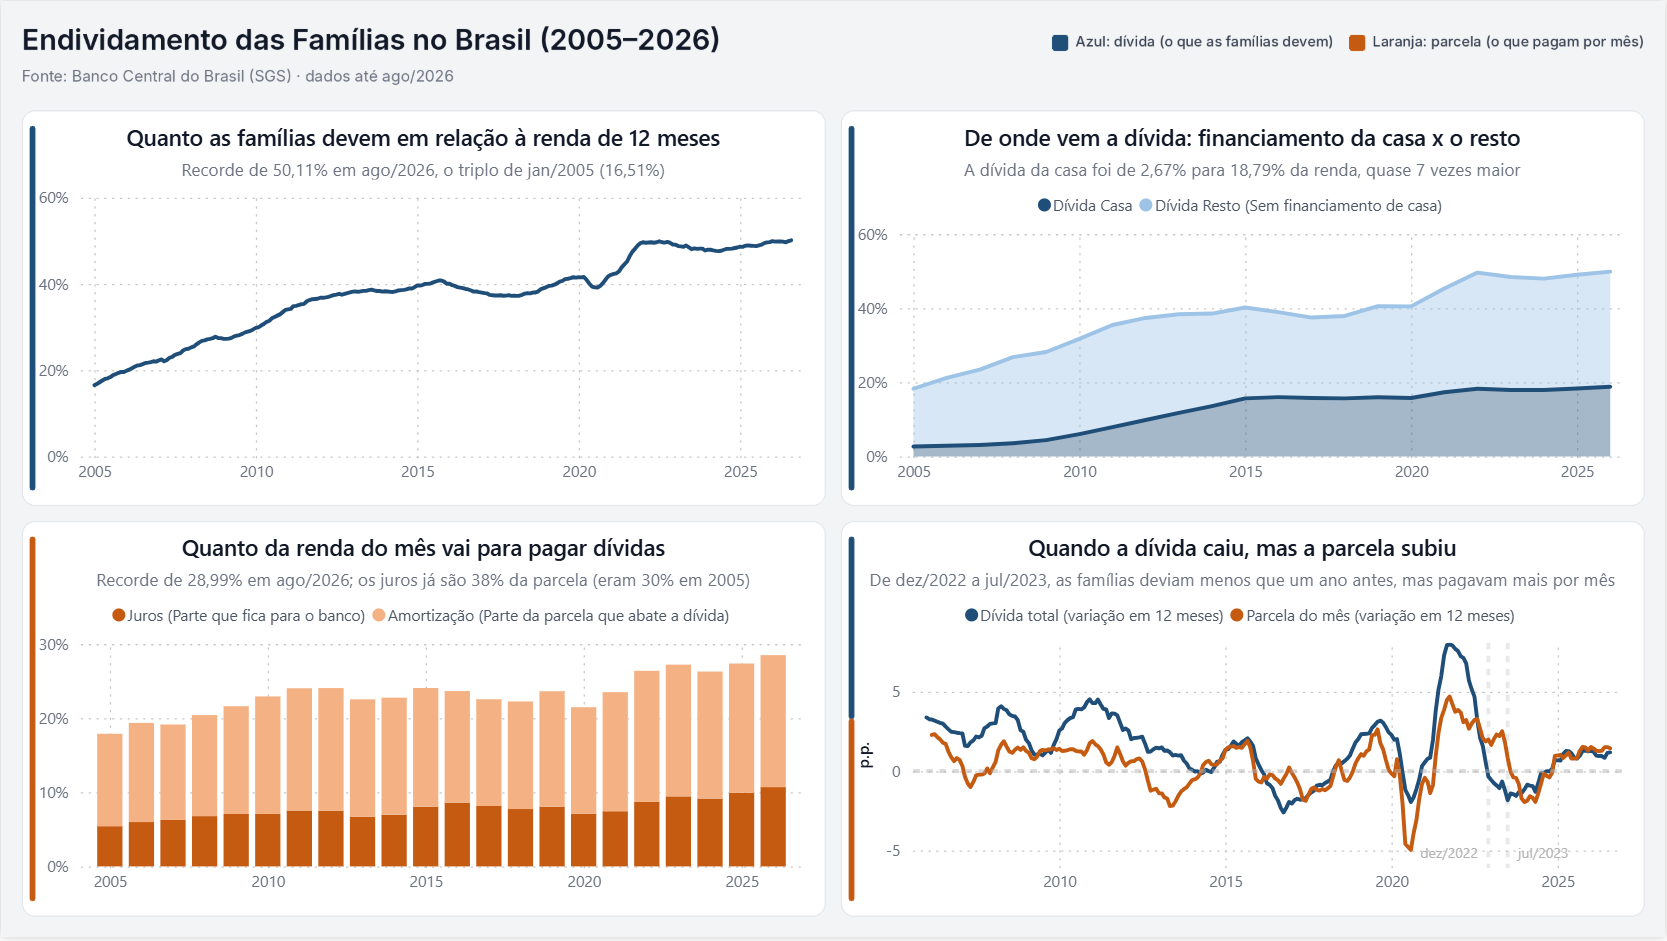

What the dashboard file says about the page in this screenshot:
{"tool":"powerbi","page":{"name":"Página 1","canvas":[1280,720],"ordinal":0},"visuals":[{"type":"lineChart","title":"Quanto as famílias devem em relação à renda de 12 meses","fields":{"Category":["dim_calendario.data_ref"],"Y":["#Medidas.Endividamento"]},"box":[24,92,602,288],"z":0},{"type":"stackedAreaChart","title":"De onde vem a dívida: financiamento da casa x o resto","fields":{"Category":["dim_calendario.ano"],"Y":["#Medidas.Dívida Casa","#Medidas.Dívida Resto (Sem financiamento de casa)"]},"box":[654,92,602,288],"z":1000},{"type":"columnChart","title":"Quanto da renda do mês vai para pagar dívidas","fields":{"Category":["dim_calendario.ano"],"Y":["#Medidas.Juros","#Medidas.Amortização (Parte da parcela que abate da dívida)"]},"box":[24,408,602,288],"z":2000},{"type":"lineChart","title":"Quando a dívida caiu, mas a parcela subiu","fields":{"Y":["#Medidas.Var. Endividamento (p.p.)","#Medidas.Var. Comprometimento (p.p.)"],"Category":["dim_calendario.data_ref"]},"box":[654,408,602,288],"z":3000}]}

Visuals, with their boxes in screenshot pixels (x1, y1, x2, y2), scaled from the page's 1280x720 canvas onto the 1667x941 screenshot:
"Quanto as famílias devem em relação à renda de 12 meses" lineChart: 31/120/815/497
"De onde vem a dívida: financiamento da casa x o resto" stackedAreaChart: 852/120/1636/497
"Quanto da renda do mês vai para pagar dívidas" columnChart: 31/533/815/910
"Quando a dívida caiu, mas a parcela subiu" lineChart: 852/533/1636/910
